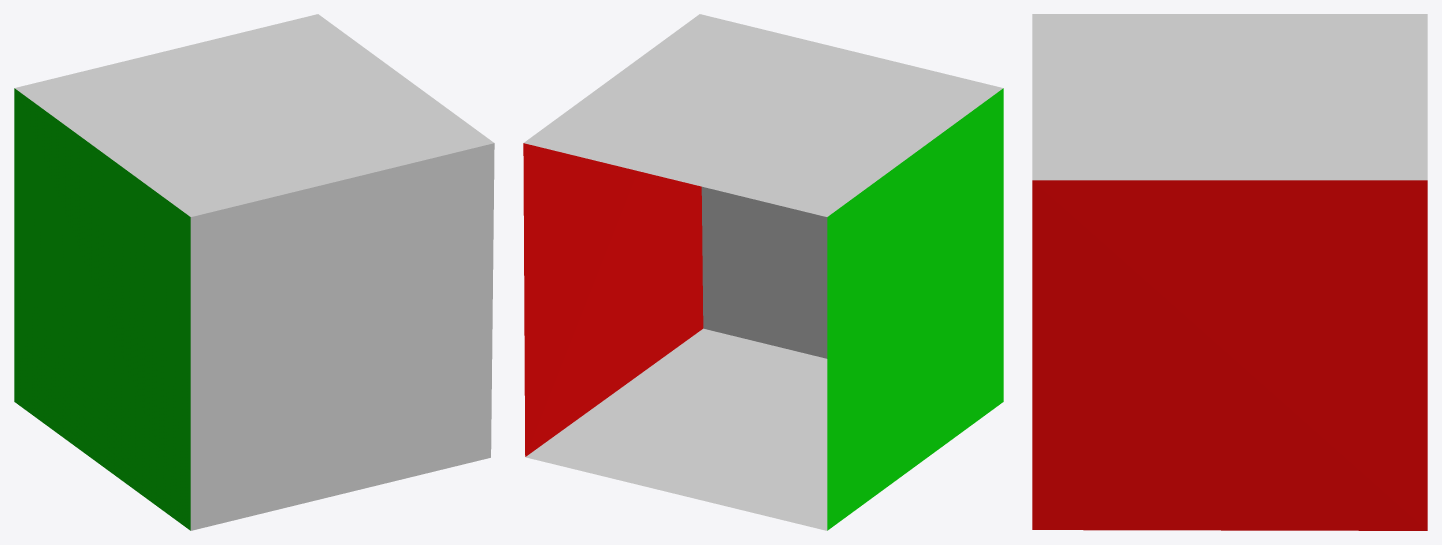
Rendered from cornell_box2.obj.
3 renders of one model, left to right at view 1: azimuth 30°, elevation 25°; view 2: azimuth 150°, elevation 25°; view 3: azimuth 270°, elevation 25°, orthographic. The views are drawn at different scales.
Visible parts, largest first — view 1: back_wall, green_wall, ceiling; view 2: green_wall, ceiling, red_wall, floor, back_wall; view 3: red_wall, ceiling.
Boxes of the visible parts, x1=… form: back_wall: x1=190, y1=143, x2=494, y2=530; green_wall: x1=14, y1=88, x2=190, y2=530; ceiling: x1=14, y1=14, x2=493, y2=216; green_wall: x1=827, y1=88, x2=1003, y2=530; ceiling: x1=524, y1=14, x2=1003, y2=216; red_wall: x1=523, y1=143, x2=703, y2=456; floor: x1=525, y1=328, x2=827, y2=530; back_wall: x1=701, y1=186, x2=827, y2=358; red_wall: x1=1032, y1=180, x2=1427, y2=530; ceiling: x1=1032, y1=14, x2=1427, y2=180.
Bounding box in the file's own units: 556 × 549 × 559.
